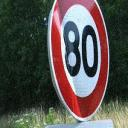speed_limit_80: (48, 0, 110, 119)
